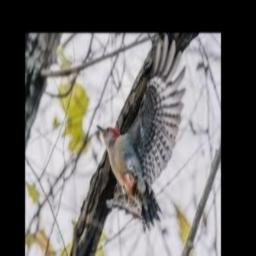Woodpecker: (97, 33, 186, 231)
